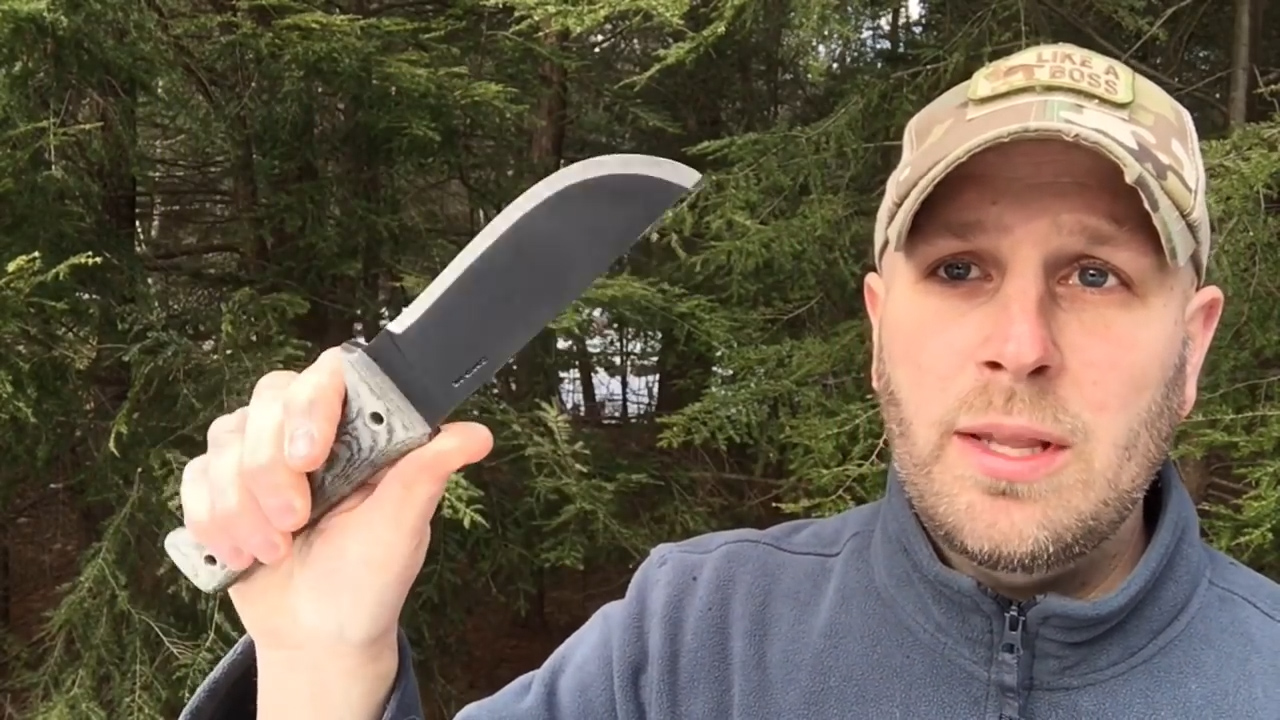knife: (230, 127, 726, 581)
